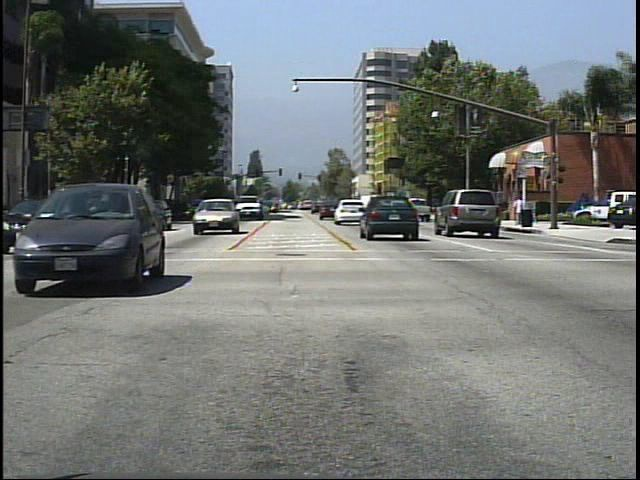person: (510, 195, 529, 232), (479, 190, 496, 225)
